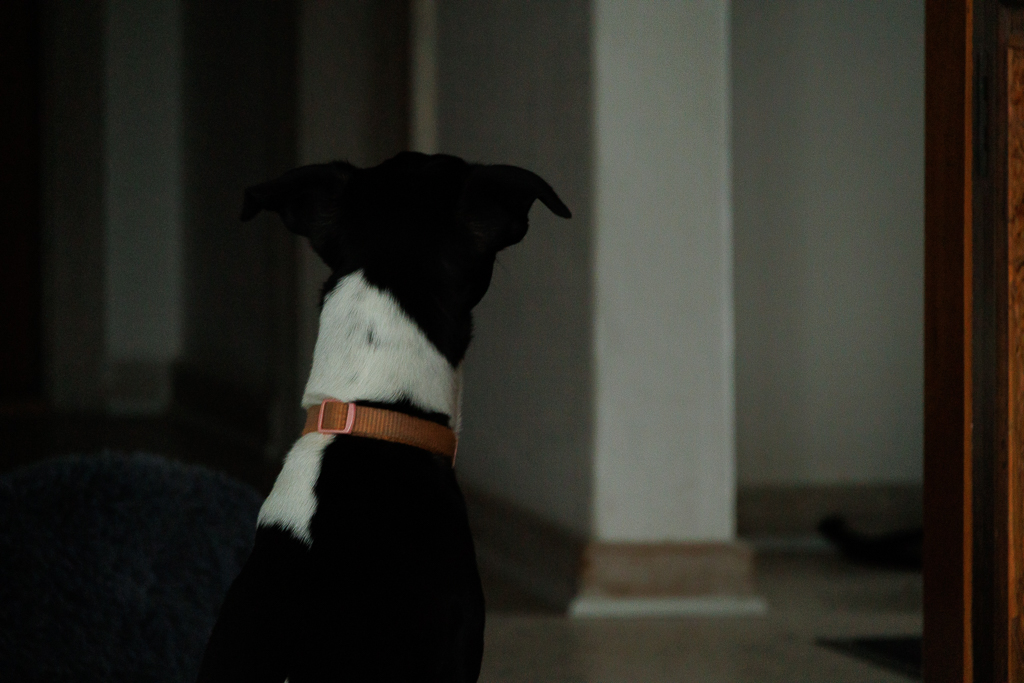Dog: (174, 145, 583, 683)
